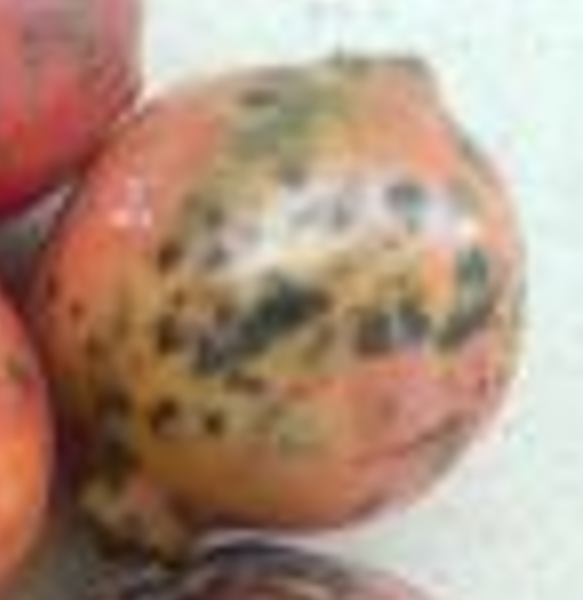pomegranate_C: (19, 57, 528, 567)
